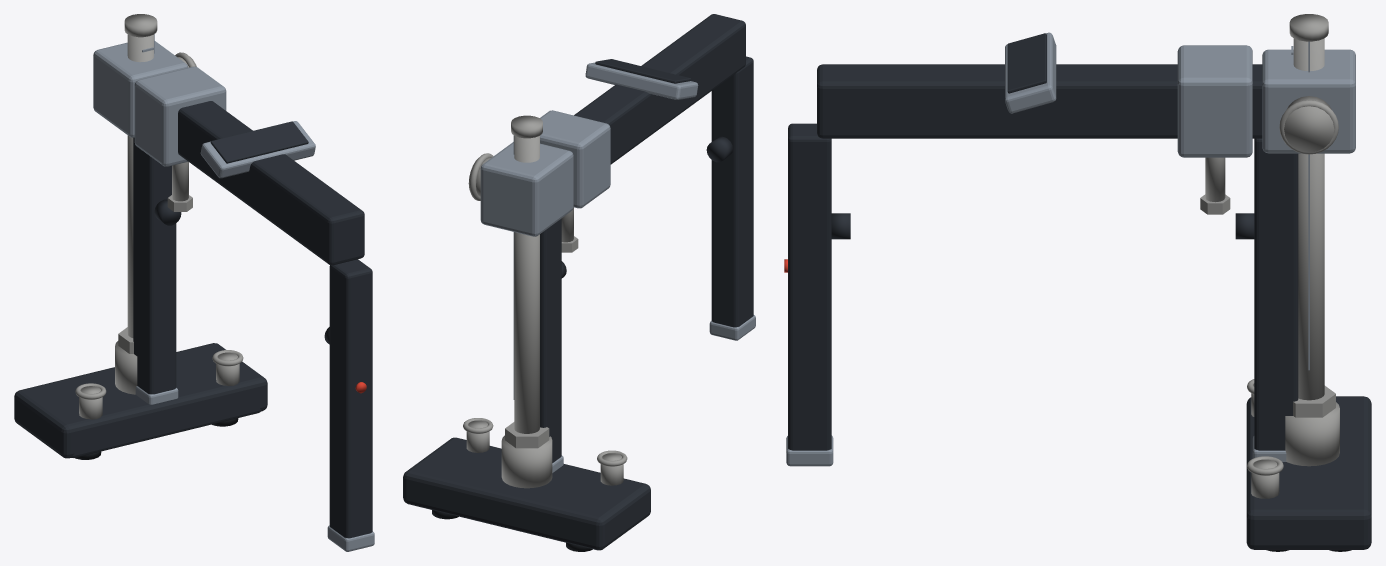
Rendered from photogate_bench.glb.
3 views of the same model, side by side, from view 1: azimuth 30°, elevation 25°; view 2: azimuth 150°, elevation 25°; view 3: azimuth 270°, elevation 25° (orthographic). The views are drawn at different scales.
Visible parts, largest first — view 1: base_plate, arm_b, beam, arm_f, head_clamp, cross_clamp, display_face, post, display_bezel, base_lip, collar, post_cap (+5 smaller); view 2: base_plate, arm_b, beam, cross_clamp, post, arm_f, head_clamp, collar, display_bezel, display_face, locknut, post_cap (+4 smaller); view 3: beam, arm_b, arm_f, base_plate, head_clamp, post, cross_clamp, collar, display_face, cross_knob, display_bezel, post_cap (+5 smaller).
Boxes of the visible parts, <box> form: base_plate: <box>14,343,267,458</box>; arm_b: <box>329,259,372,538</box>; beam: <box>178,101,364,265</box>; arm_f: <box>133,137,176,394</box>; head_clamp: <box>134,66,226,166</box>; cross_clamp: <box>93,41,188,137</box>; display_face: <box>210,121,308,163</box>; post: <box>127,34,153,337</box>; display_bezel: <box>200,121,315,178</box>; base_lip: <box>71,406,261,457</box>; collar: <box>115,341,137,394</box>; post_cap: <box>124,14,157,37</box>; base_plate: <box>403,437,650,550</box>; arm_b: <box>711,56,753,327</box>; beam: <box>574,14,745,164</box>; cross_clamp: <box>480,142,573,236</box>; post: <box>514,136,539,433</box>; arm_f: <box>540,218,561,462</box>; head_clamp: <box>540,110,610,208</box>; collar: <box>501,435,552,488</box>; display_bezel: <box>585,62,698,99</box>; display_face: <box>595,59,690,83</box>; locknut: <box>505,422,549,448</box>; post_cap: <box>511,115,542,138</box>; beam: <box>817,64,1262,138</box>; arm_b: <box>788,123,831,450</box>; arm_f: <box>1254,138,1298,450</box>; base_plate: <box>1246,396,1371,549</box>; head_clamp: <box>1177,45,1252,157</box>; post: <box>1293,38,1324,400</box>; cross_clamp: <box>1262,49,1355,153</box>; collar: <box>1285,402,1339,466</box>; display_face: <box>1007,33,1046,93</box>; cross_knob: <box>1284,96,1334,152</box>; display_bezel: <box>1005,32,1056,113</box>; post_cap: <box>1289,14,1328,41</box>.
Size of the model in its own units: 0.09 by 0.17 by 0.1877.
